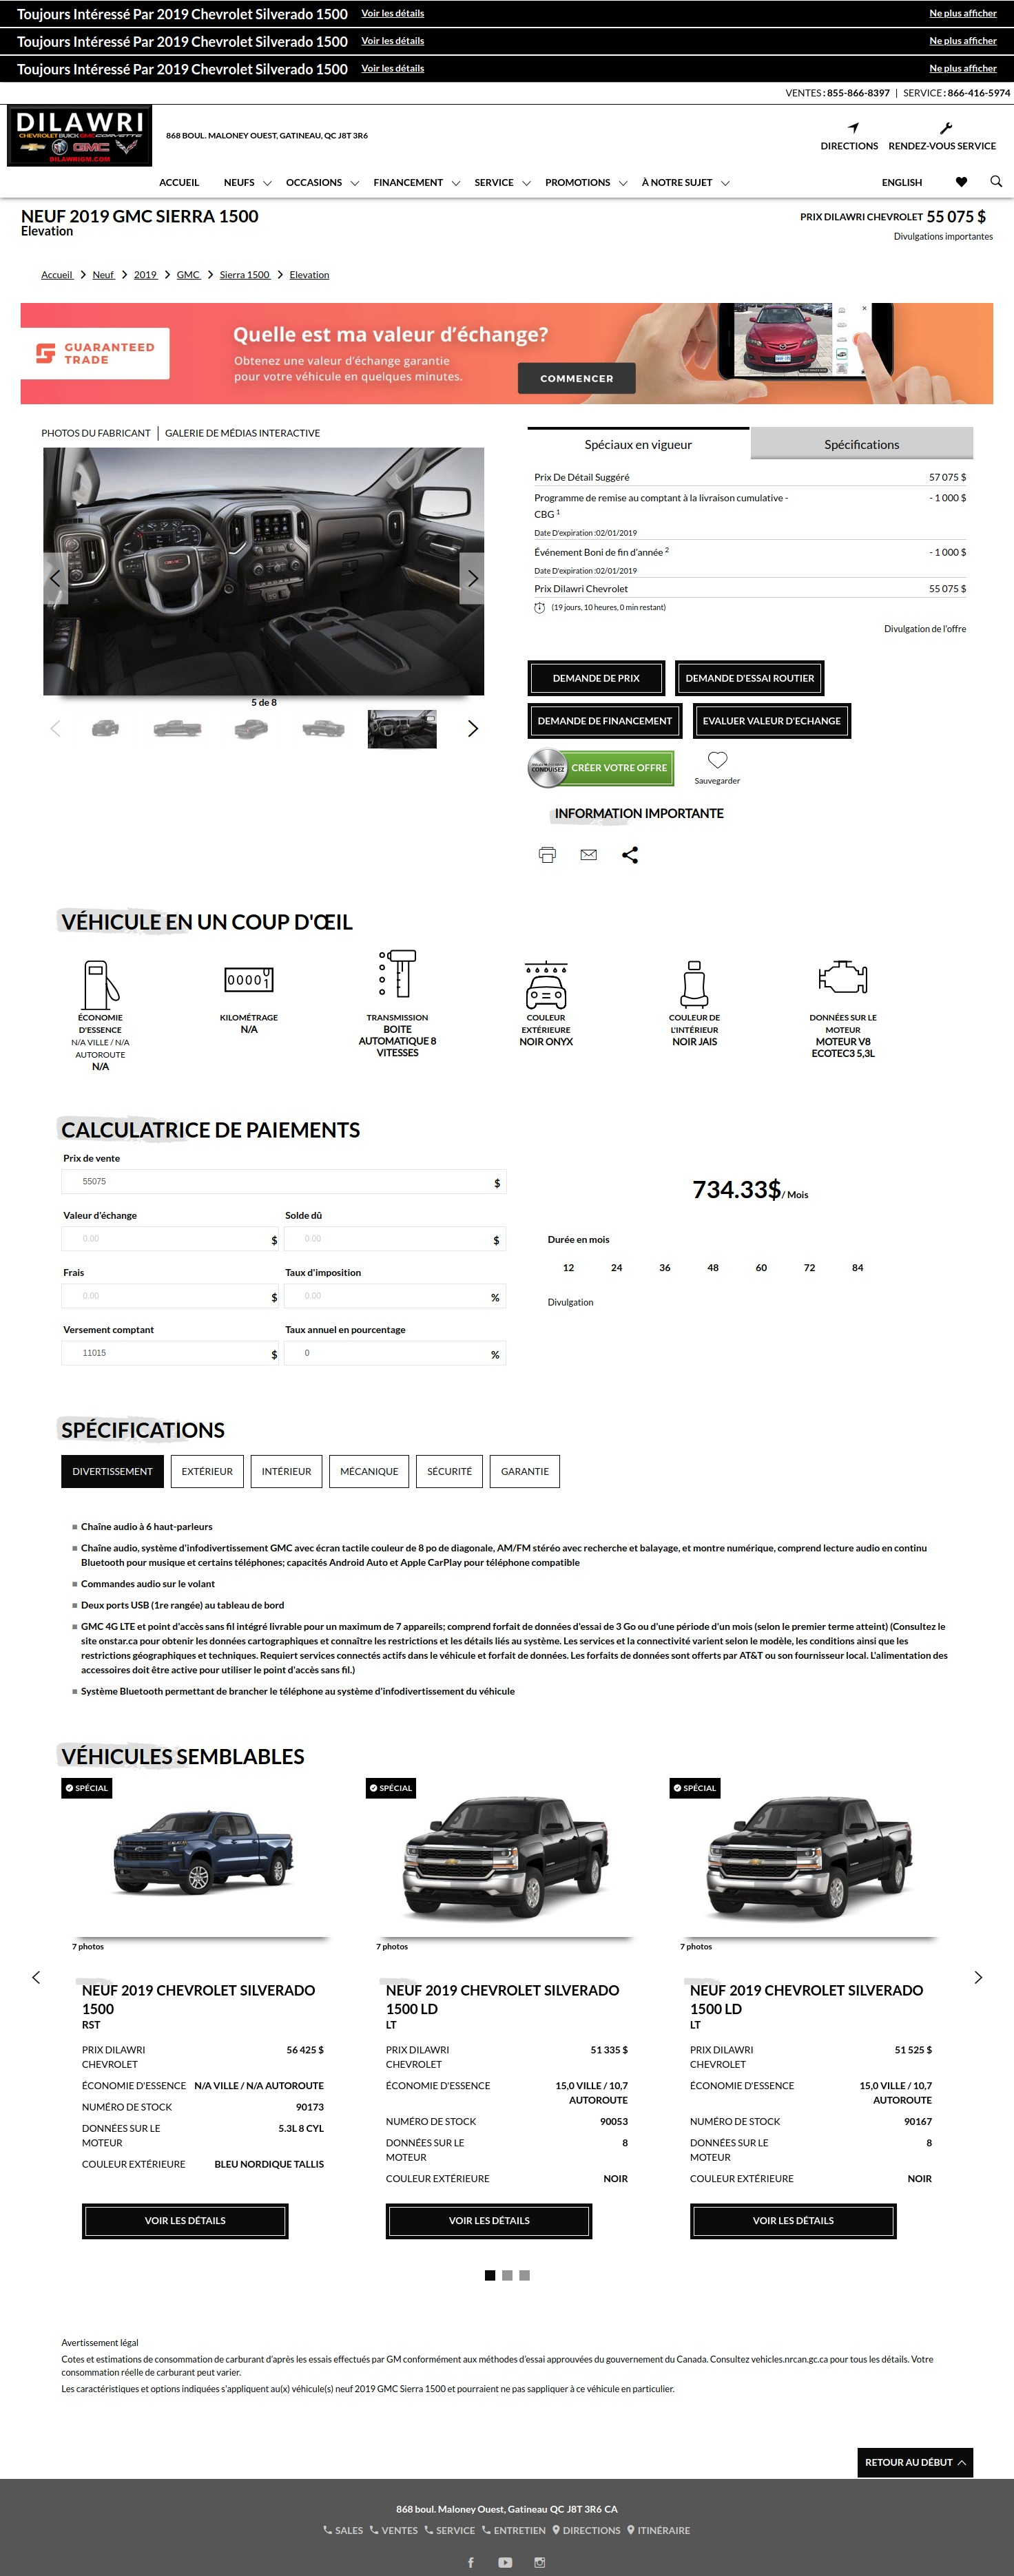car: (468, 720, 478, 738)
